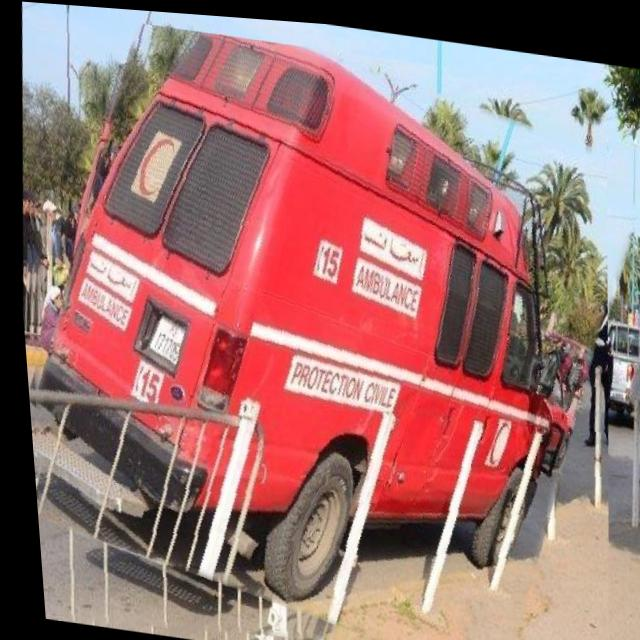ambulance: (0, 4, 639, 640)
